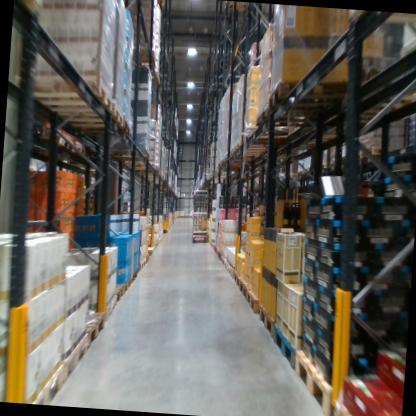pallet: (268, 70, 367, 124), (292, 337, 358, 416), (20, 71, 116, 119), (40, 98, 128, 131), (49, 111, 135, 144), (251, 100, 319, 133), (59, 328, 88, 395), (29, 361, 70, 406), (76, 305, 109, 354), (270, 323, 299, 377), (240, 127, 300, 148), (102, 144, 154, 164), (257, 307, 278, 343), (125, 47, 158, 69), (332, 400, 373, 416), (227, 147, 270, 161), (246, 288, 269, 314), (233, 142, 270, 157), (238, 274, 257, 300), (358, 146, 385, 164), (129, 163, 161, 178), (98, 294, 118, 316), (220, 158, 250, 171), (222, 153, 247, 166), (270, 156, 292, 169), (113, 281, 125, 304), (218, 161, 240, 172), (146, 73, 162, 87), (123, 276, 132, 295), (130, 268, 137, 285), (139, 260, 146, 275), (302, 163, 310, 176), (234, 272, 240, 288), (316, 160, 324, 169), (296, 168, 303, 178), (135, 264, 141, 274), (147, 248, 154, 256)
